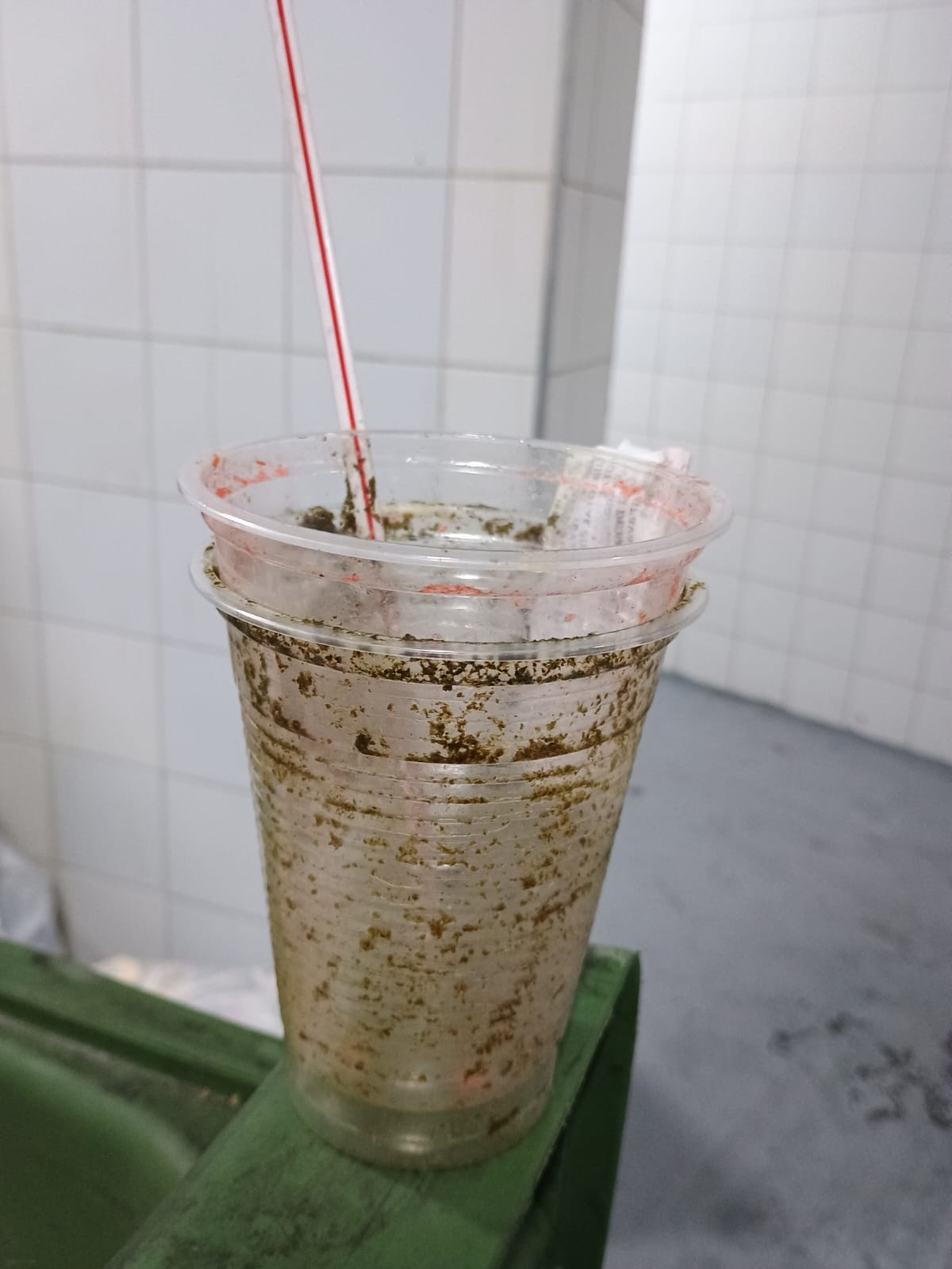Plastico: (175, 428, 740, 1168)
